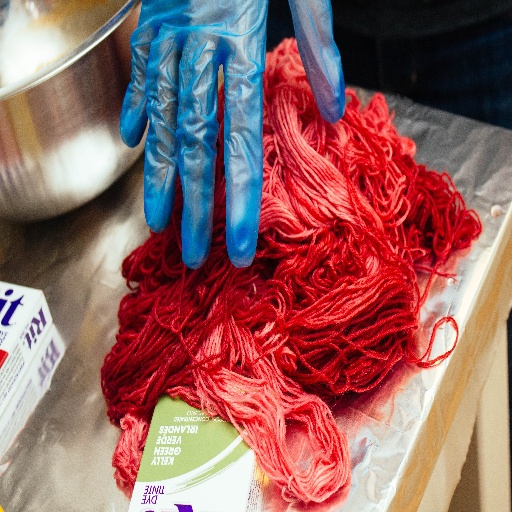hand: (121, 0, 345, 265)
